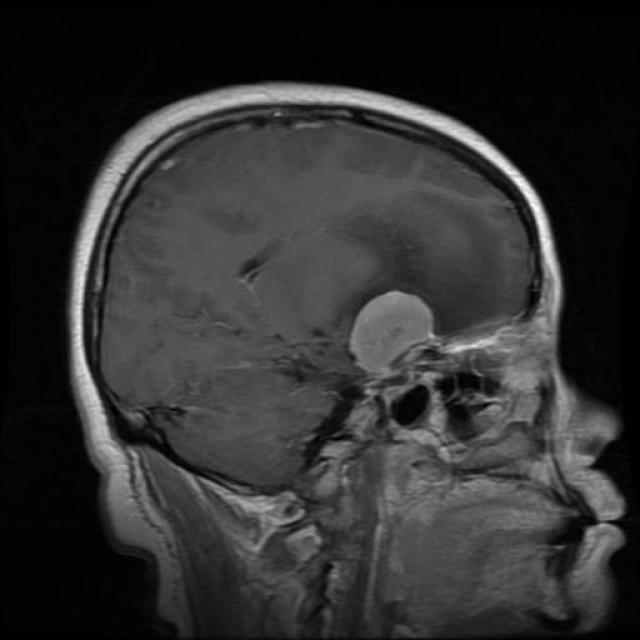meningioma: (350, 290, 434, 372)
